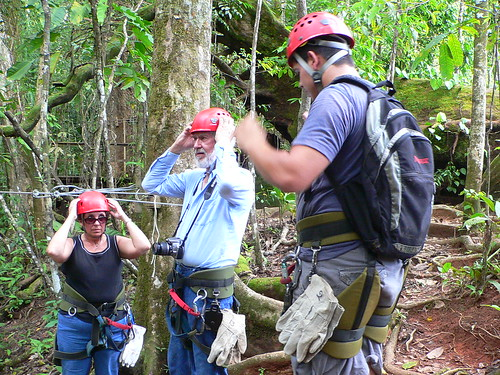helmet: (273, 6, 354, 55), (184, 101, 236, 128), (68, 183, 109, 211)
